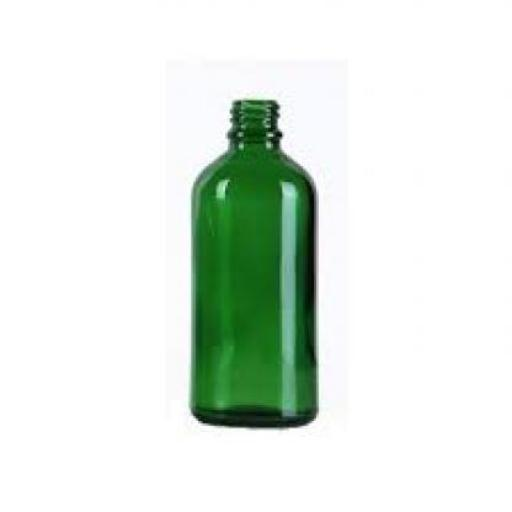glass: (193, 98, 321, 428)
